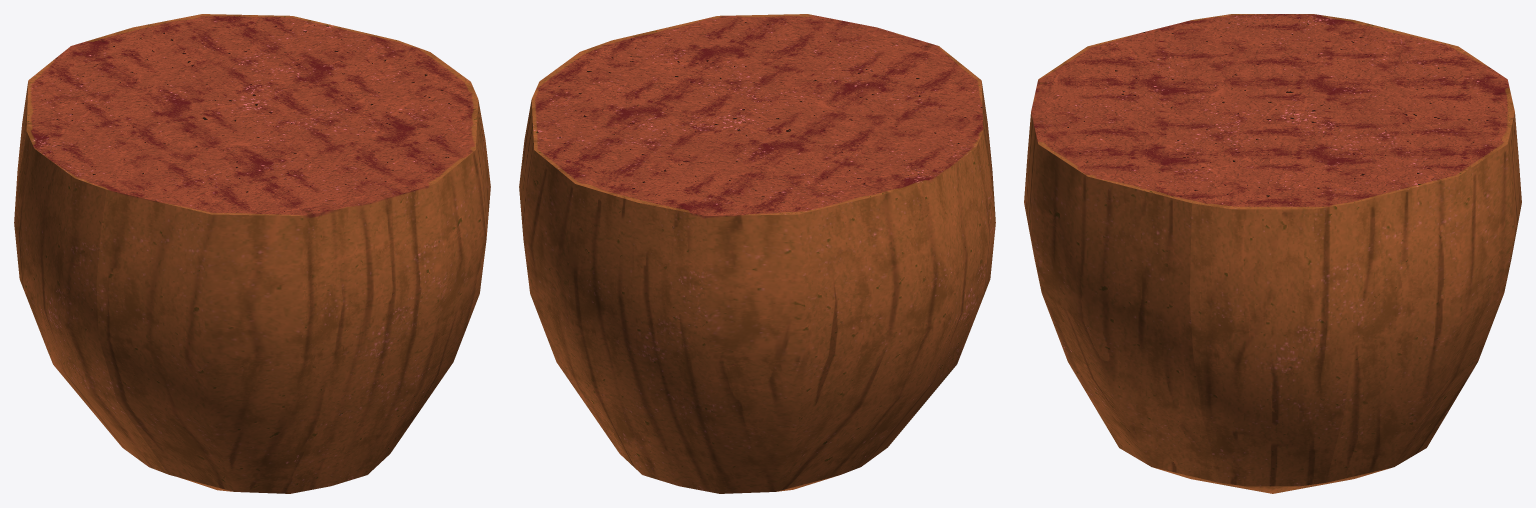
The model's file is Rock_Final_V3.fbx.
The picture shows the model from 3 angles, left to right: view 1: azimuth 30°, elevation 25°; view 2: azimuth 150°, elevation 25°; view 3: azimuth 270°, elevation 25°; orthographic projection.
Parts seen in each view (by area): view 1: pCube5; view 2: pCube5; view 3: pCube5.
Boxes of the visible parts, <box> form: pCube5: <box>14,14,490,493</box>; pCube5: <box>519,14,995,493</box>; pCube5: <box>1024,14,1521,493</box>.
Size of the model in its own units: 6.93 by 5.25 by 7.04.
1 material, 1 textured.
